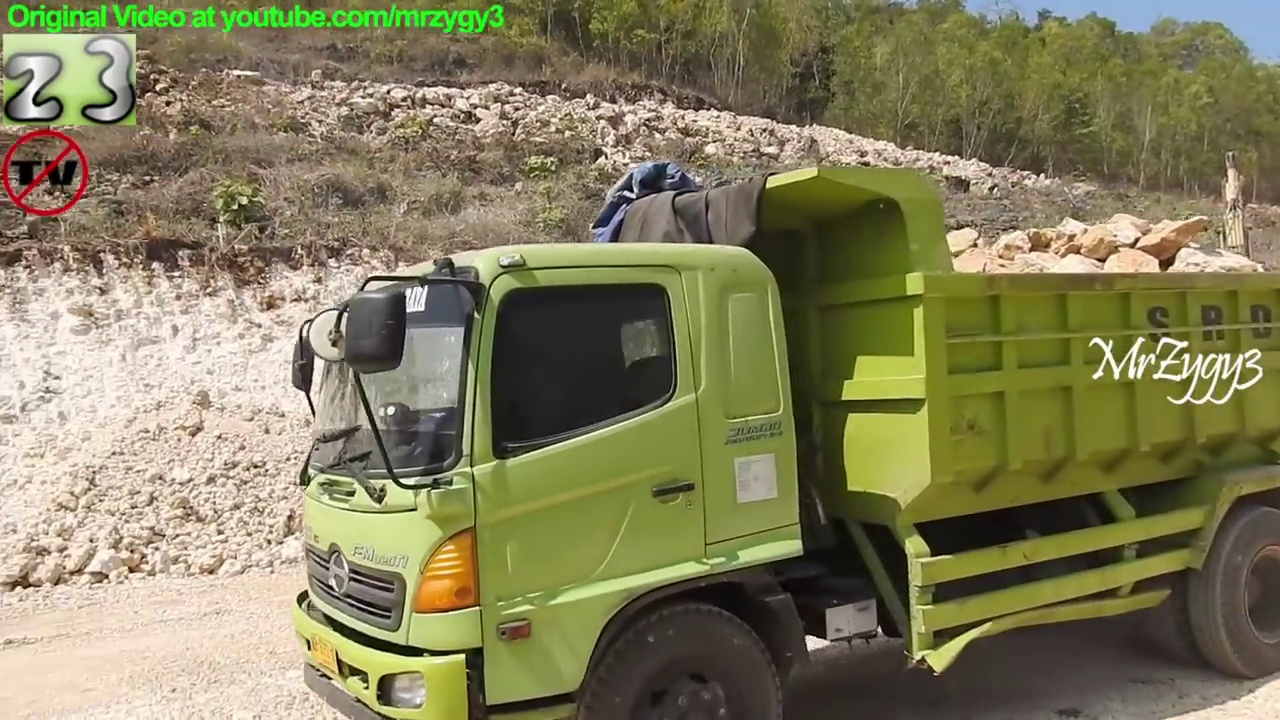excavator: (1162, 143, 1280, 367)
truck: (281, 157, 1280, 720)
